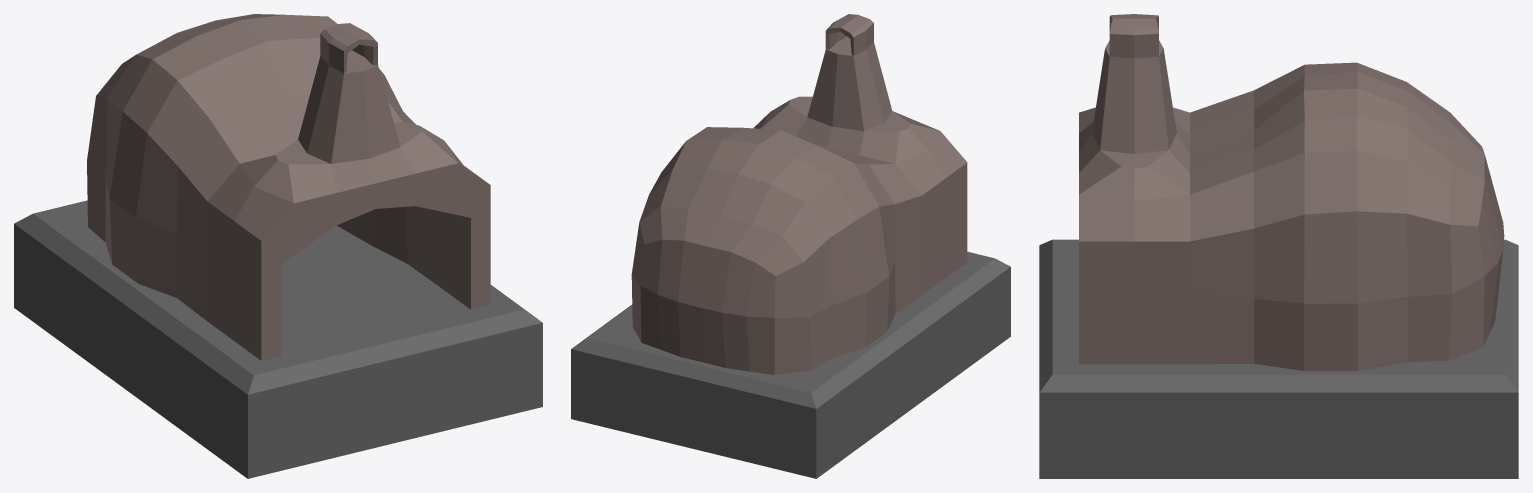
The model's file is Forno.fbx.
3 views of the same model, side by side, from view 1: azimuth 30°, elevation 25°; view 2: azimuth 150°, elevation 25°; view 3: azimuth 270°, elevation 25° (orthographic). The views are drawn at different scales.
Parts seen in each view (by area): view 1: Forno; view 2: Forno; view 3: Forno.
Part boxes in pixels (bbox=[...]): Forno: bbox=[14, 14, 542, 478]; Forno: bbox=[571, 14, 1010, 478]; Forno: bbox=[1039, 14, 1518, 478].
Bounding box in the file's own units: 238 × 290 × 326.
